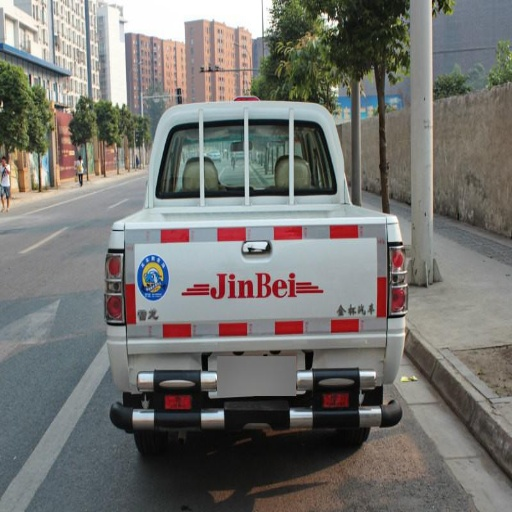back_bumper: (107, 318, 407, 429)
